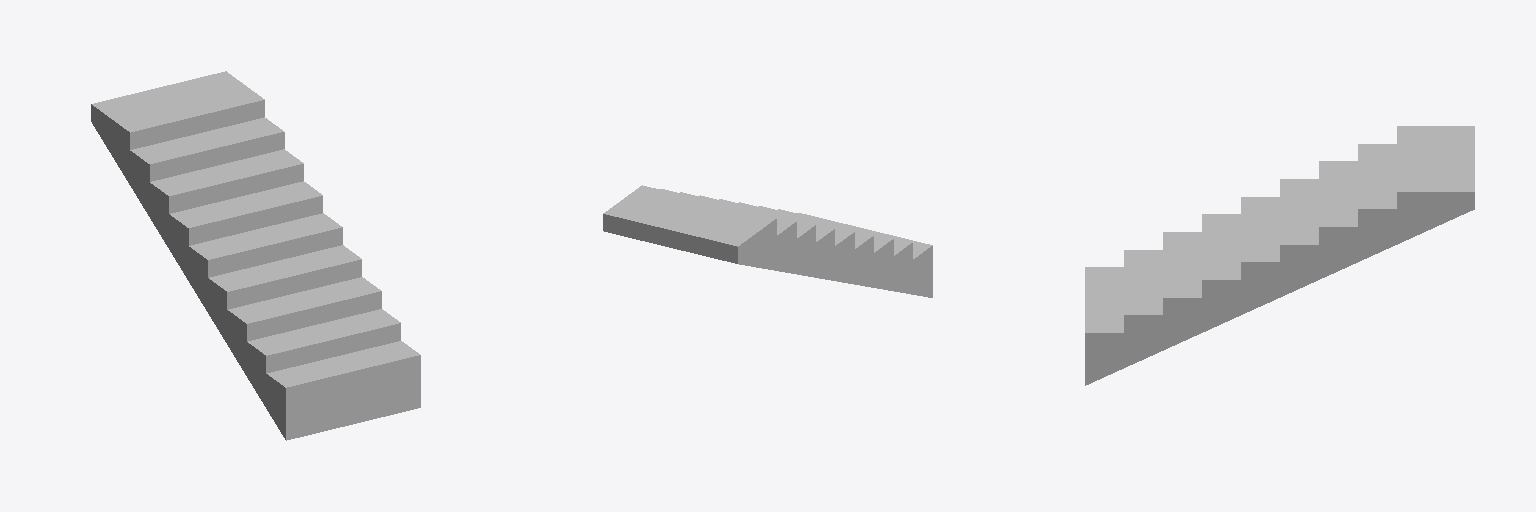
Rendered from Stairs (91).obj.
3 renders of one model, left to right at view 1: azimuth 30°, elevation 25°; view 2: azimuth 150°, elevation 25°; view 3: azimuth 270°, elevation 25°, orthographic.
Visible parts, largest first — view 1: Stairs (91); view 2: Stairs (91); view 3: Stairs (91).
Part boxes in pixels (left/top/right/bottom): Stairs (91): left=91, top=71, right=420, bottom=440; Stairs (91): left=603, top=185, right=932, bottom=297; Stairs (91): left=1085, top=126, right=1474, bottom=385.
Size of the model in its own units: 2 by 2.75 by 5.